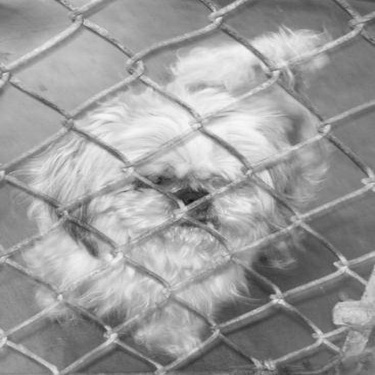dog: (14, 15, 341, 363)
